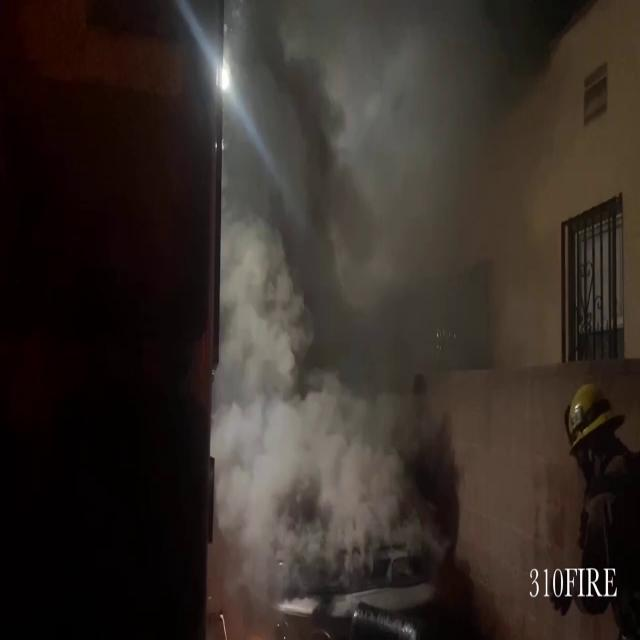Smoke: (202, 0, 577, 630)
